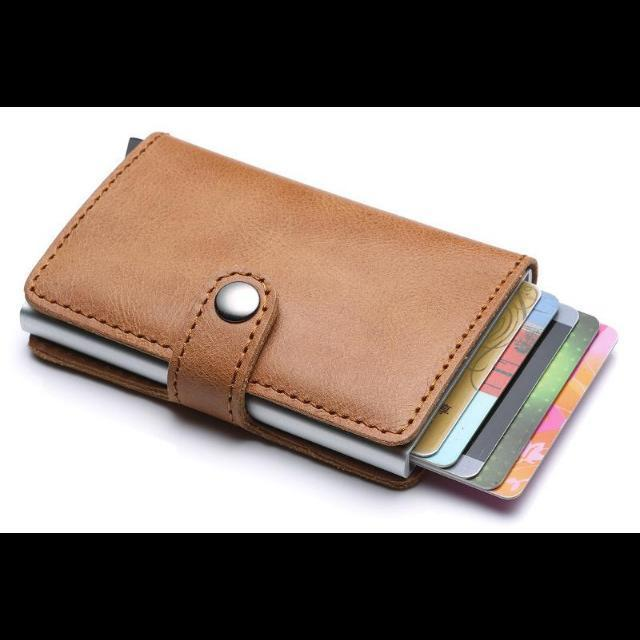wallet: (16, 126, 540, 497)
